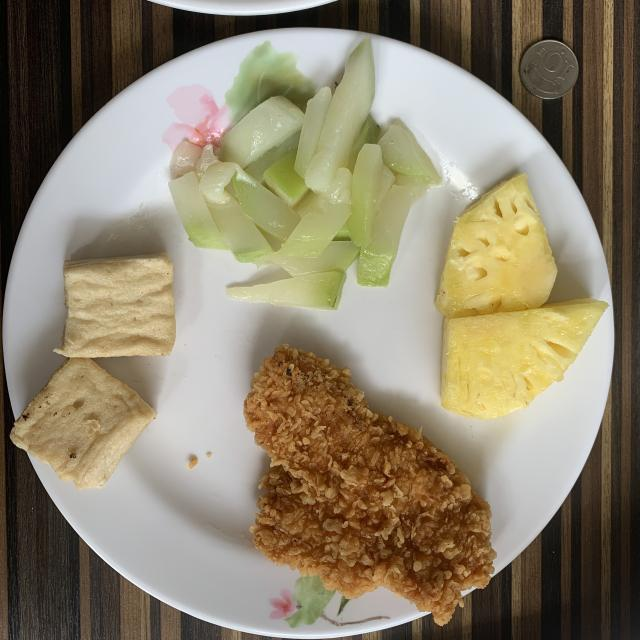coin: (520, 40, 579, 99)
creamy tofu -without sauce-: (10, 255, 175, 489)
fried chicken cutlet: (245, 346, 495, 624)
pineapple: (435, 174, 608, 419)
